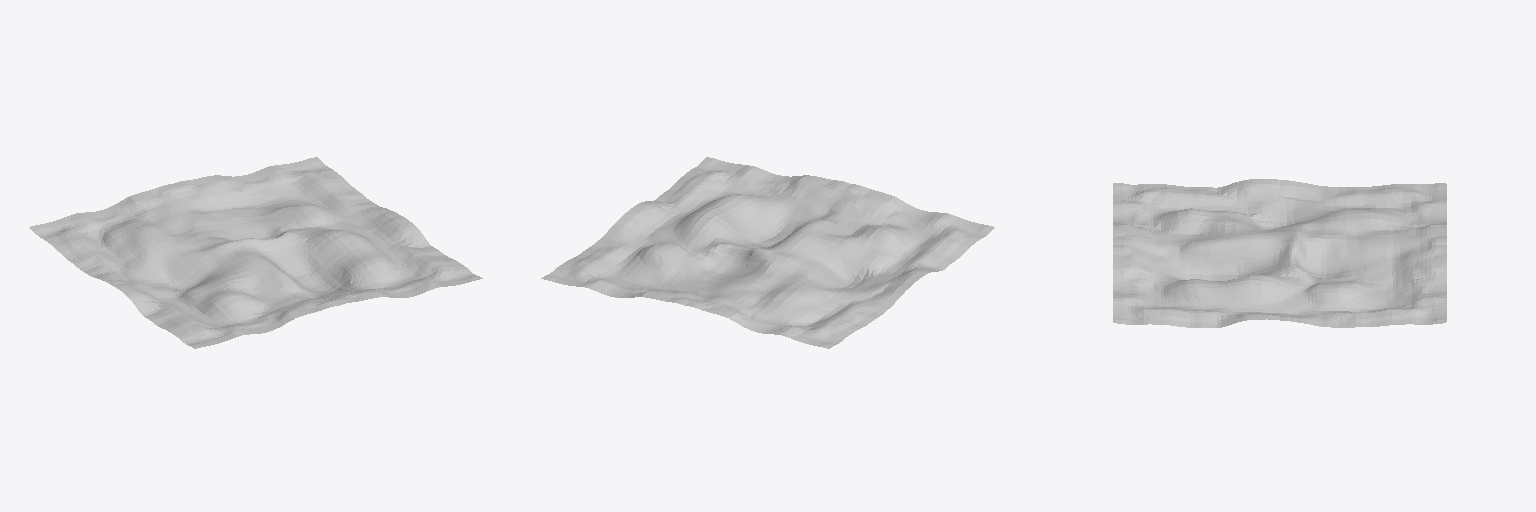
File: ground_model7.obj
The picture shows the model from 3 angles: view 1: azimuth 30°, elevation 25°; view 2: azimuth 150°, elevation 25°; view 3: azimuth 270°, elevation 25°; orthographic projection.
Visible parts, largest first — view 1: pPlane21; view 2: pPlane21; view 3: pPlane21.
Part boxes in pixels (x1,y1,x2,y2): pPlane21: (29, 157, 482, 348); pPlane21: (541, 157, 994, 348); pPlane21: (1113, 179, 1446, 327).
Bounding box in the file's own units: 248 × 21.74 × 248.